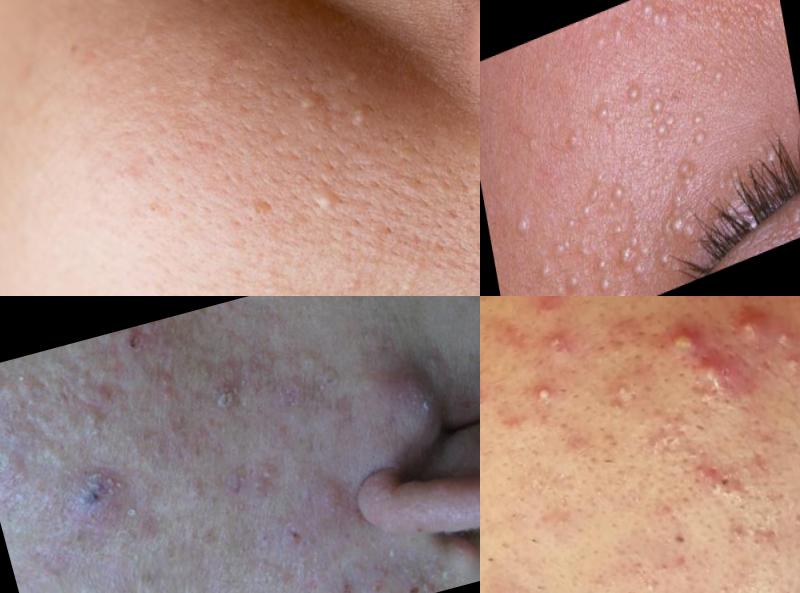blackhead: (680, 448, 745, 510), (631, 411, 695, 454)
cystic: (358, 344, 479, 462), (683, 347, 744, 403)
milium: (263, 59, 396, 154), (649, 159, 719, 272), (301, 161, 360, 256), (592, 230, 652, 297), (682, 102, 719, 161), (678, 40, 717, 95), (634, 1, 678, 46), (649, 87, 681, 148), (667, 147, 703, 199), (550, 211, 584, 265), (602, 173, 639, 221), (576, 176, 606, 224), (559, 120, 589, 160), (619, 74, 647, 112), (603, 15, 630, 54), (588, 91, 614, 128), (604, 210, 631, 245), (561, 263, 586, 297), (514, 206, 536, 242), (535, 252, 558, 286), (763, 135, 784, 170), (627, 203, 648, 237), (708, 60, 727, 89)
purulent: (648, 305, 700, 365), (522, 372, 563, 413), (599, 370, 635, 409), (736, 301, 768, 344), (768, 320, 800, 357), (778, 345, 800, 379)
sebo-crystan-conglo: (37, 446, 142, 531), (182, 372, 253, 431), (4, 387, 56, 443), (240, 452, 280, 501)
whitehead: (63, 407, 115, 450), (537, 321, 581, 365), (679, 571, 744, 593), (636, 572, 669, 593), (581, 573, 613, 593), (481, 382, 489, 413)
